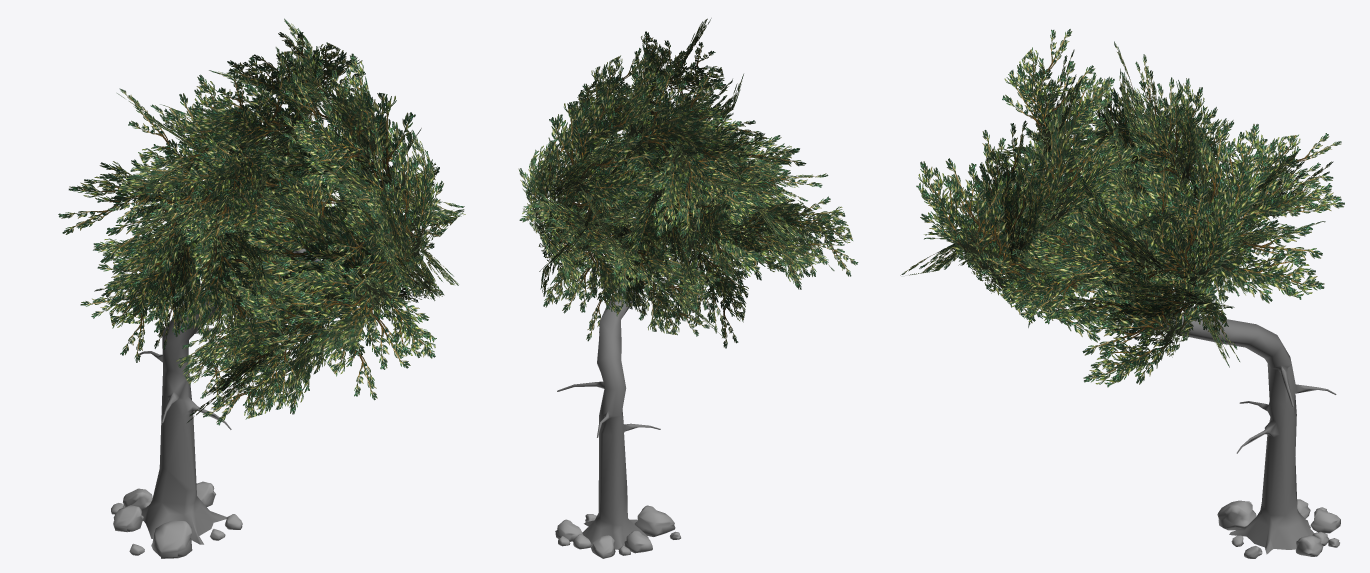
Rendered from gardtree_lod1.fbx.
3 views of the same model, side by side, from view 1: azimuth 30°, elevation 25°; view 2: azimuth 150°, elevation 25°; view 3: azimuth 270°, elevation 25° (orthographic). The views are drawn at different scales.
Parts seen in each view (by area): view 1: Default_Layer; view 2: Default_Layer; view 3: Default_Layer.
Part boxes in pixels (x1,y1,x2,y2): Default_Layer: [58, 18, 465, 558]; Default_Layer: [518, 18, 858, 558]; Default_Layer: [900, 29, 1344, 558].
Bounding box in the file's own units: 542 × 823 × 662.
